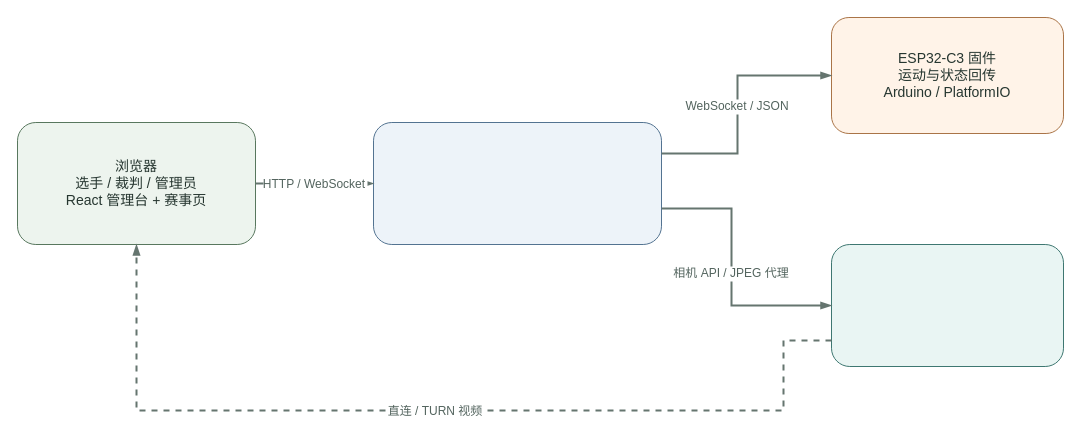
Image size: 1081x437. Some labels were removed from this diagram. Each missing label, with the box of its shape:
Go 控制器 :8081 身份、租约、赛事状态 指令、API、视频代理: (372, 122, 662, 244)
Python 视频 :8091 相机、WebRTC、录像 OpenCV / aiortc / Flask: (830, 244, 1064, 366)
